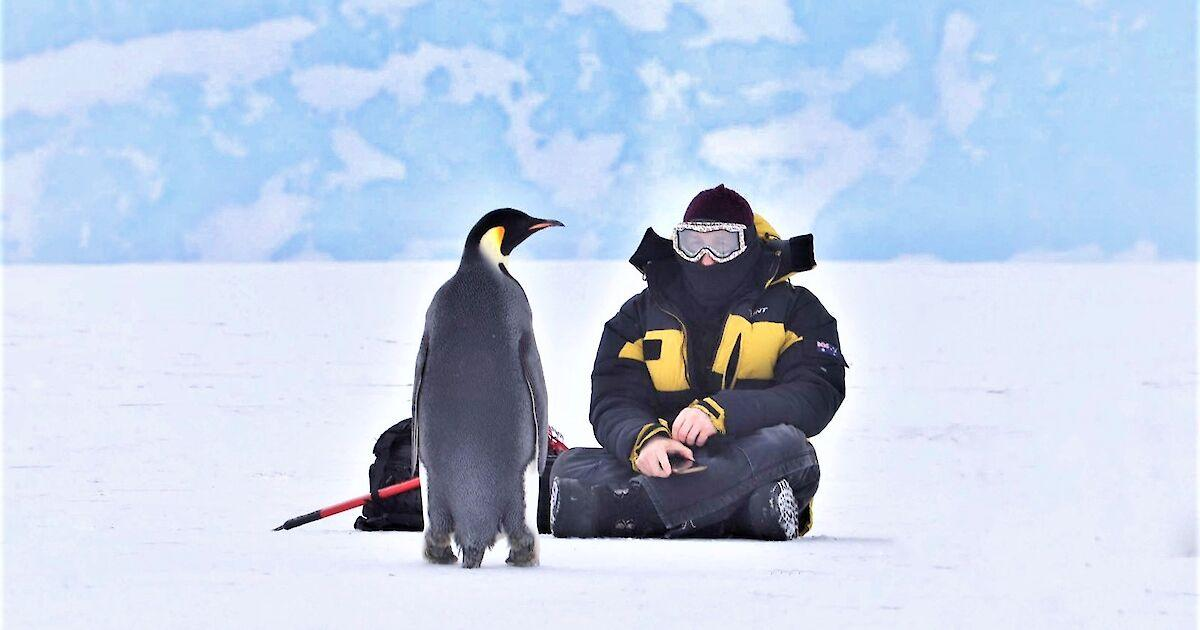emporer: (399, 196, 584, 587)
